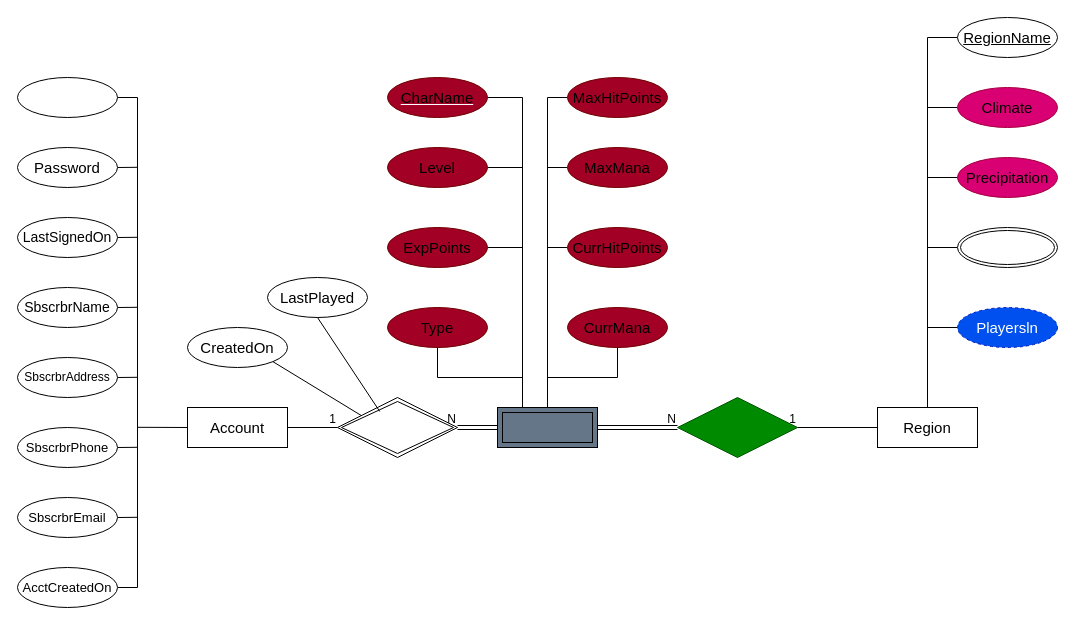
This 1075x625 diagram has some shape labels left out. Here are the shapes that lost their labels. From the top down, the box of each, then its label:
(16, 76, 118, 118): AcctName
(956, 226, 1058, 268): Foliage
(336, 396, 458, 458): Has
(496, 406, 598, 448): Character
(676, 396, 798, 458): Contains
